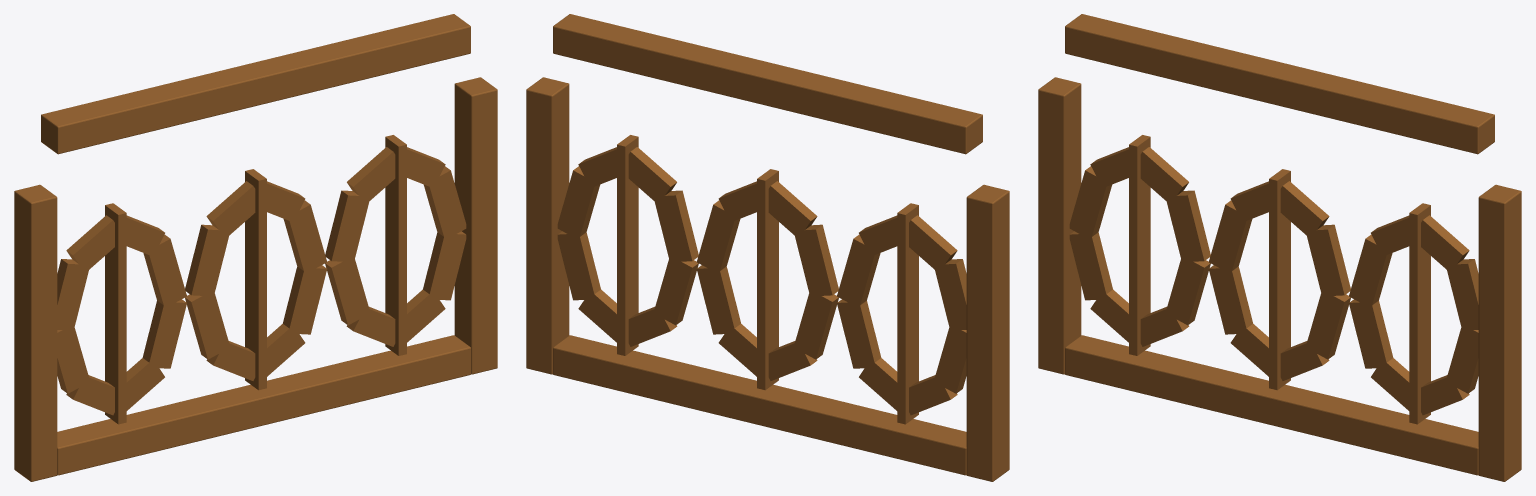
The model's file is source-edit.glb.
3 renders of one model, left to right at view 1: azimuth 30°, elevation 25°; view 2: azimuth 150°, elevation 25°; view 3: azimuth 330°, elevation 25°, orthographic.
Visible parts, largest first — view 1: PANEL_TopRail, PANEL_BottomRail, PANEL_Stile, PANEL_Stile.001, CARVE_Stem.001, CARVE_Stem.002, CARVE_Stem, CARVE_Petal.020, CARVE_Petal.012, CARVE_Petal.016, CARVE_Petal, CARVE_Petal.008 (+19 smaller); view 2: PANEL_TopRail, PANEL_BottomRail, PANEL_Stile, PANEL_Stile.001, CARVE_Stem.001, CARVE_Stem.002, CARVE_Stem, CARVE_Petal.012, CARVE_Petal.020, CARVE_Petal.016, CARVE_Petal, CARVE_Petal.008 (+19 smaller); view 3: PANEL_TopRail, PANEL_BottomRail, PANEL_Stile.001, PANEL_Stile, CARVE_Stem, CARVE_Stem.002, CARVE_Stem.001, CARVE_Petal.009, CARVE_Petal.001, CARVE_Petal.005, CARVE_Petal.021, CARVE_Petal.013 (+19 smaller).
Boxes of the visible parts, x1,y1,x2,y2 form: PANEL_TopRail: (41,14,470,154); PANEL_BottomRail: (57,335,470,475); PANEL_Stile: (14,184,57,481); PANEL_Stile.001: (454,77,497,374); CARVE_Stem.001: (105,203,126,424); CARVE_Stem.002: (245,169,266,390); CARVE_Stem: (385,135,406,355); CARVE_Petal.020: (325,190,370,262); CARVE_Petal.012: (185,224,228,296); CARVE_Petal.016: (283,265,327,334); CARVE_Petal: (423,231,466,300); CARVE_Petal.008: (142,299,186,368); PANEL_TopRail: (553,14,982,154); PANEL_BottomRail: (553,335,966,475); PANEL_Stile: (966,184,1009,481); PANEL_Stile.001: (526,77,569,374); CARVE_Stem.001: (897,203,918,424); CARVE_Stem.002: (757,169,778,390); CARVE_Stem: (617,135,638,355); CARVE_Petal.012: (793,224,838,296); CARVE_Petal.020: (653,190,698,261); CARVE_Petal.016: (696,265,740,334); CARVE_Petal: (557,231,600,300); CARVE_Petal.008: (837,299,881,368); PANEL_TopRail: (1065,14,1494,154); PANEL_BottomRail: (1065,335,1478,475); PANEL_Stile.001: (1478,184,1521,481); PANEL_Stile: (1038,77,1081,374); CARVE_Stem: (1409,203,1430,424); CARVE_Stem.002: (1269,169,1290,390); CARVE_Stem.001: (1129,135,1150,355); CARVE_Petal.009: (1305,224,1350,296); CARVE_Petal.001: (1165,190,1210,262); CARVE_Petal.005: (1069,231,1112,300); CARVE_Petal.021: (1349,299,1393,368); CARVE_Petal.013: (1208,265,1252,334).
Size of the model in its own units: 1.4 by 1 by 0.09.
